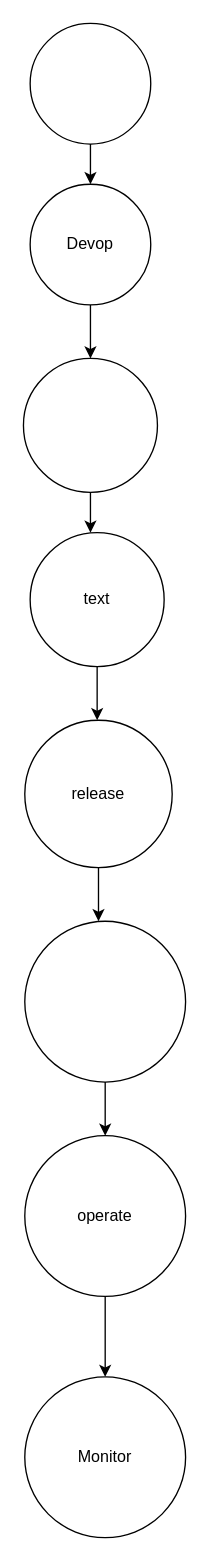
Image size: 209x1561. Some labels were removed from this diagram. Each missing label, with the centre of its shape:
build: [89,424]
deploy: [104,1001]
plan: [90,83]
